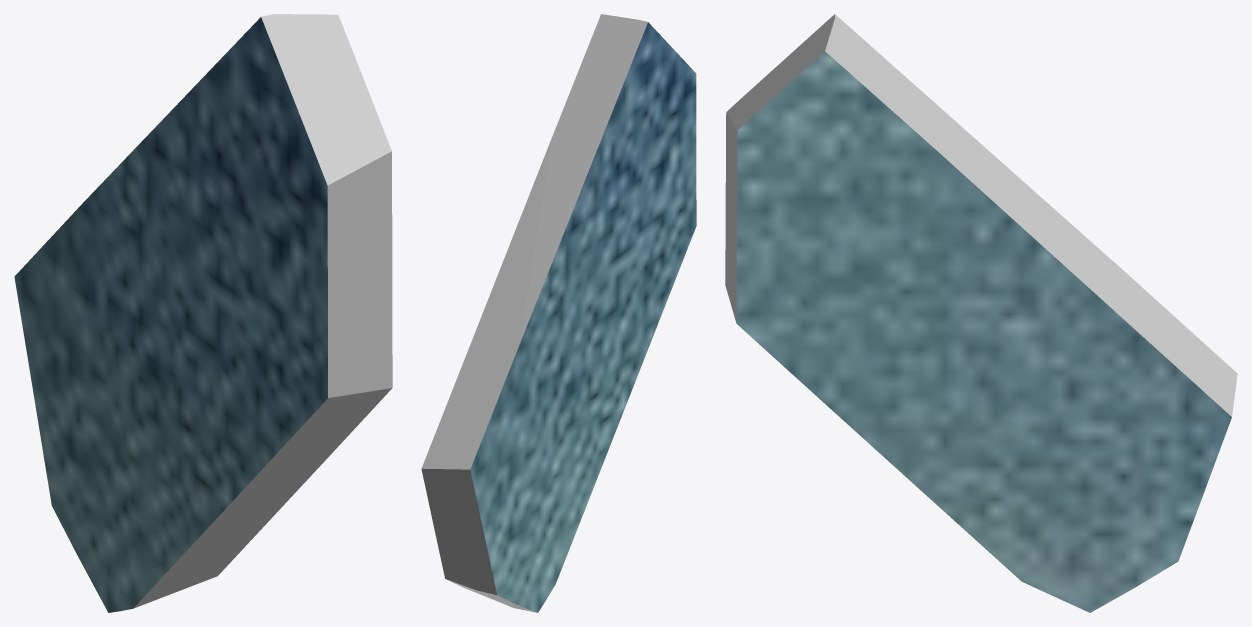
3 renders of one model, left to right at view 1: azimuth 30°, elevation 25°; view 2: azimuth 150°, elevation 25°; view 3: azimuth 270°, elevation 25°, orthographic. The views are drawn at different scales.
Visible parts, largest first — view 1: Cube_cell.006_Mesh.006; view 2: Cube_cell.006_Mesh.006; view 3: Cube_cell.006_Mesh.006.
Part boxes in pixels (left/top/right/bottom): Cube_cell.006_Mesh.006: left=14, top=14, right=392, bottom=612; Cube_cell.006_Mesh.006: left=421, top=14, right=696, bottom=612; Cube_cell.006_Mesh.006: left=725, top=14, right=1237, bottom=612.
Size of the model in its own units: 0.0832 by 0.7896 by 0.6343.
